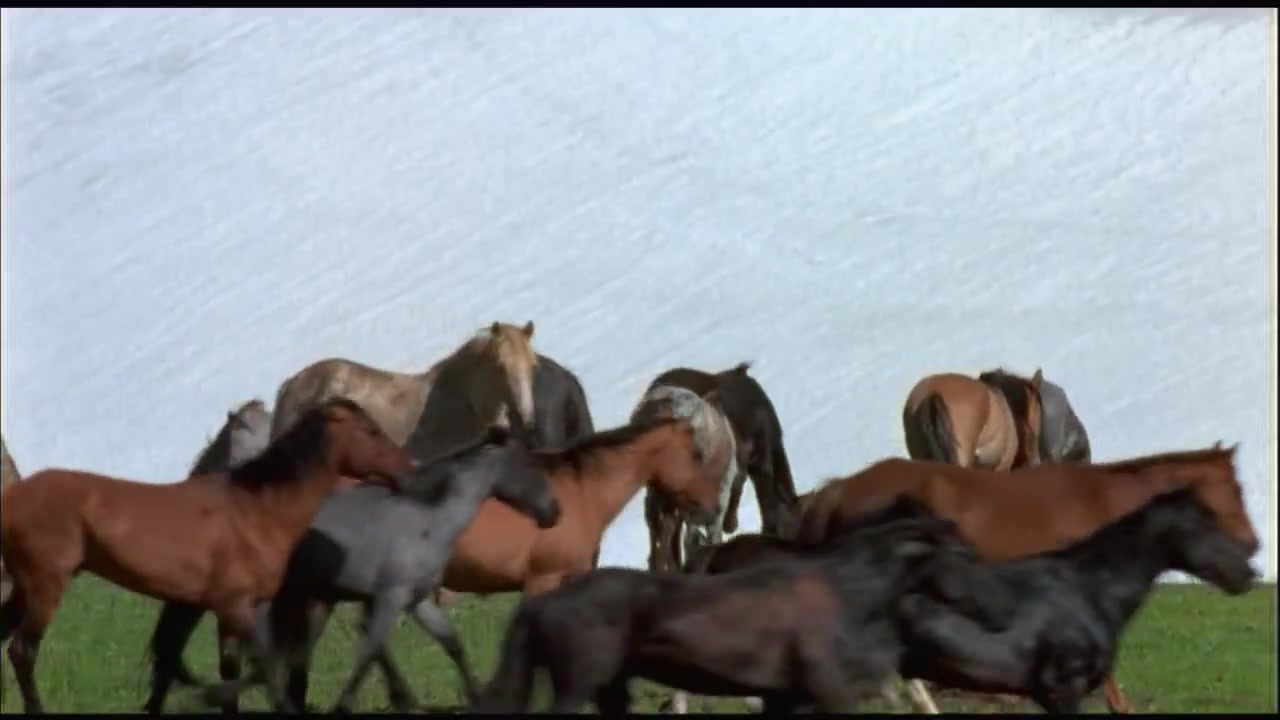horse: (1, 398, 425, 715)
